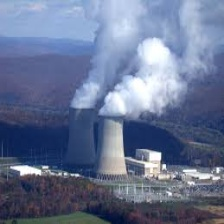smoke: (70, 1, 203, 110)
